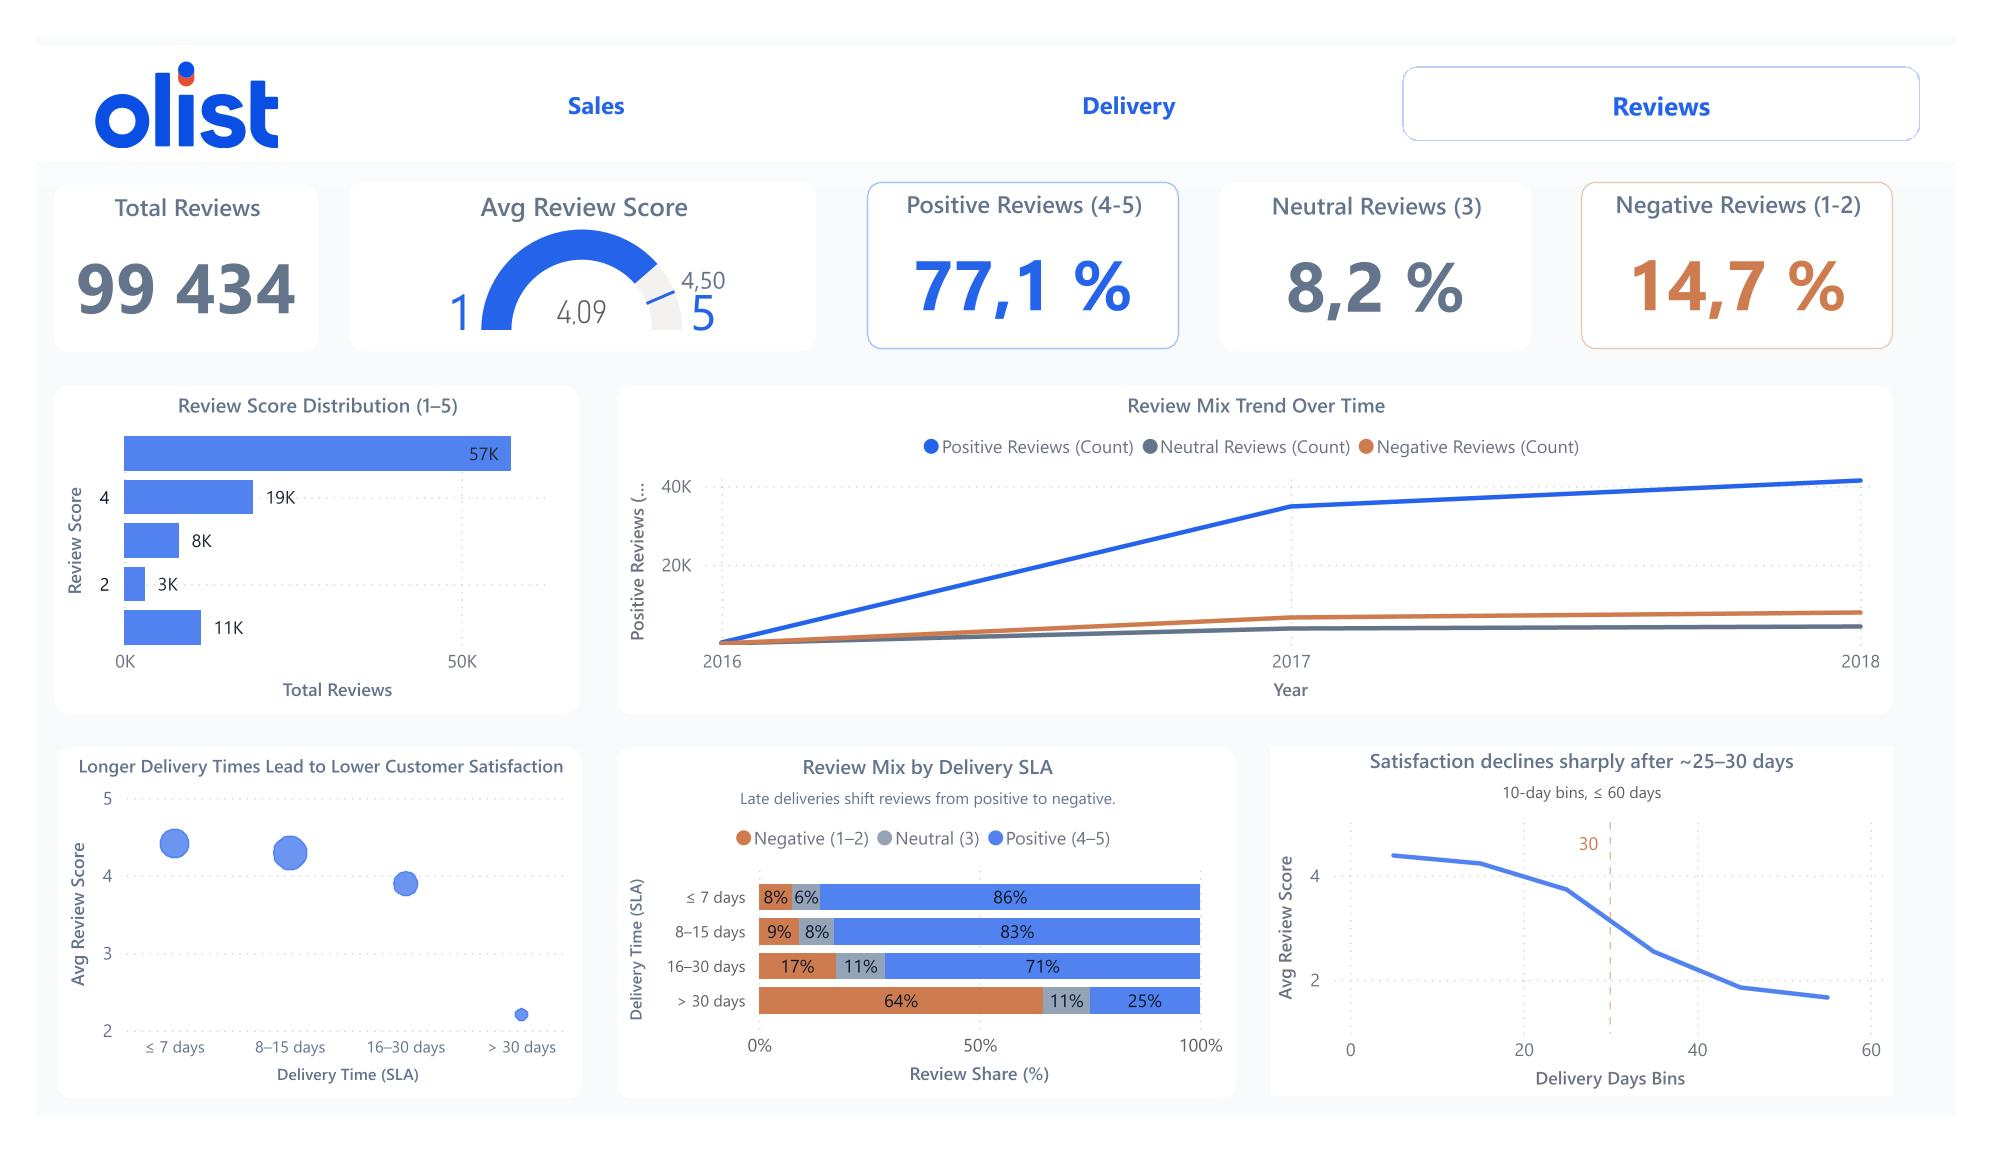

What the dashboard file says about the page in this screenshot:
{"tool":"powerbi","page":{"name":"Reviews","canvas":[1280,720],"ordinal":2},"visuals":[{"type":"shape","box":[0,5.6,1280,78.9],"z":0,"group":"g1"},{"type":"group","id":"g1","title":"Group 1","box":[0,5.6,1280,78.9],"z":0},{"type":"card","title":"Total Reviews","fields":{"Values":["_measures.Total Orders"]},"box":[12.2,98.9,175.6,112.2],"z":1000},{"type":"card","title":"Negative Reviews (1-2)","fields":{"Values":["_measures.Negative Reviews %"]},"box":[1030,96.7,207.8,112.2],"z":2000},{"type":"pageNavigator","box":[201.1,20,1055.6,50],"z":3000,"group":"g1"},{"type":"card","title":"Positive Reviews (4-5)","fields":{"Values":["_measures.Positive Reviews %"]},"box":[554.4,96.7,207.8,112.2],"z":3000},{"type":"card","title":"Neutral Reviews (3)","fields":{"Values":["_measures.Neutral Reviews %"]},"box":[788.9,97.8,207.8,112.2],"z":4000},{"type":"gauge","fields":{"Y":["_measures.Avg Review Score"]},"box":[208.9,96.7,311.1,113.3],"z":5000},{"type":"clusteredBarChart","title":"Review Score Distribution (1–5)","fields":{"Category":["f_reviews.review_score"],"Y":["_measures.Total Reviews"]},"box":[12.2,233.3,350,218.9],"z":6000},{"type":"lineChart","title":"Review Mix Trend Over Time","fields":{"Category":["d_date.Year"],"Y":["_measures.Positive Reviews (Count)","_measures.Neutral Reviews (Count)","_measures.Negative Reviews (Count)"]},"box":[386.7,233.3,851.1,218.9],"z":7000},{"type":"scatterChart","title":"Longer Delivery Times Lead to Lower Customer Satisfaction","fields":{"Size":["_measures.Total Reviews"],"X":["f_orders.delivery_sla_bucket"],"Y":["_measures.Avg Review Score"]},"box":[14.4,474.4,350,233.3],"z":8000},{"type":"hundredPercentStackedBarChart","title":"Review Mix by Delivery SLA","fields":{"Category":["f_orders.delivery_sla_bucket"],"Series":["d_review_type.Review Type"],"Y":["_measures.Reviews by Type"]},"box":[387,474,413,234],"z":9000},{"type":"lineChart","title":"Satisfaction declines sharply after ~25–30 days","fields":{"Category":["f_orders.Delivery Days Bin Center"],"Y":["_measures.Avg Review Score"]},"box":[823,474,415,233],"z":10000},{"type":"actionButton","box":[12.6,10.5,175.2,69.2],"z":11000,"group":"g1"}]}

Visuals, with their boxes in screenshot pixels (x1, y1, x2, y2), scaled from the page's 1280x720 canvas onto the 1992x1152 screenshot:
shape: (x1=0, y1=9, x2=1991, y2=135)
"Group 1" group: (x1=0, y1=9, x2=1991, y2=135)
"Total Reviews" card: (x1=19, y1=158, x2=292, y2=338)
"Negative Reviews (1-2)" card: (x1=1603, y1=155, x2=1926, y2=334)
pageNavigator: (x1=313, y1=32, x2=1956, y2=112)
"Positive Reviews (4-5)" card: (x1=863, y1=155, x2=1186, y2=334)
"Neutral Reviews (3)" card: (x1=1228, y1=156, x2=1551, y2=336)
gauge - _measures.Avg Review Score: (x1=325, y1=155, x2=809, y2=336)
"Review Score Distribution (1–5)" clusteredBarChart: (x1=19, y1=373, x2=564, y2=724)
"Review Mix Trend Over Time" lineChart: (x1=602, y1=373, x2=1926, y2=724)
"Longer Delivery Times Lead to Lower Customer Satisfaction" scatterChart: (x1=22, y1=759, x2=567, y2=1132)
"Review Mix by Delivery SLA" hundredPercentStackedBarChart: (x1=602, y1=758, x2=1245, y2=1133)
"Satisfaction declines sharply after ~25–30 days" lineChart: (x1=1281, y1=758, x2=1927, y2=1131)
actionButton: (x1=20, y1=17, x2=292, y2=128)
